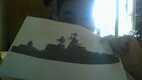tau_muctieu: (15, 33, 119, 65)
